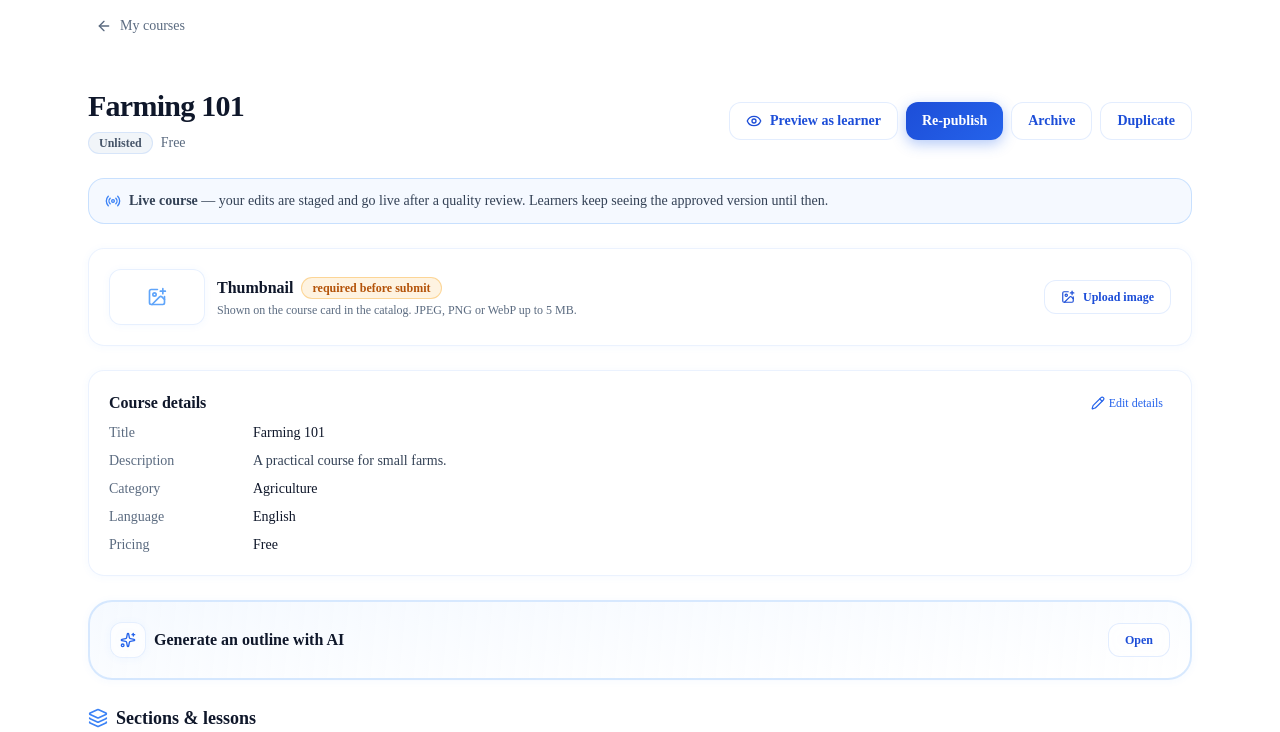
Test: course authoring page › shows a failed action as an alert
This screenshot has width=1280, height=732.
Click the button "Re-publish" at (955, 121), box x1=906 y1=102 x2=1003 y2=140
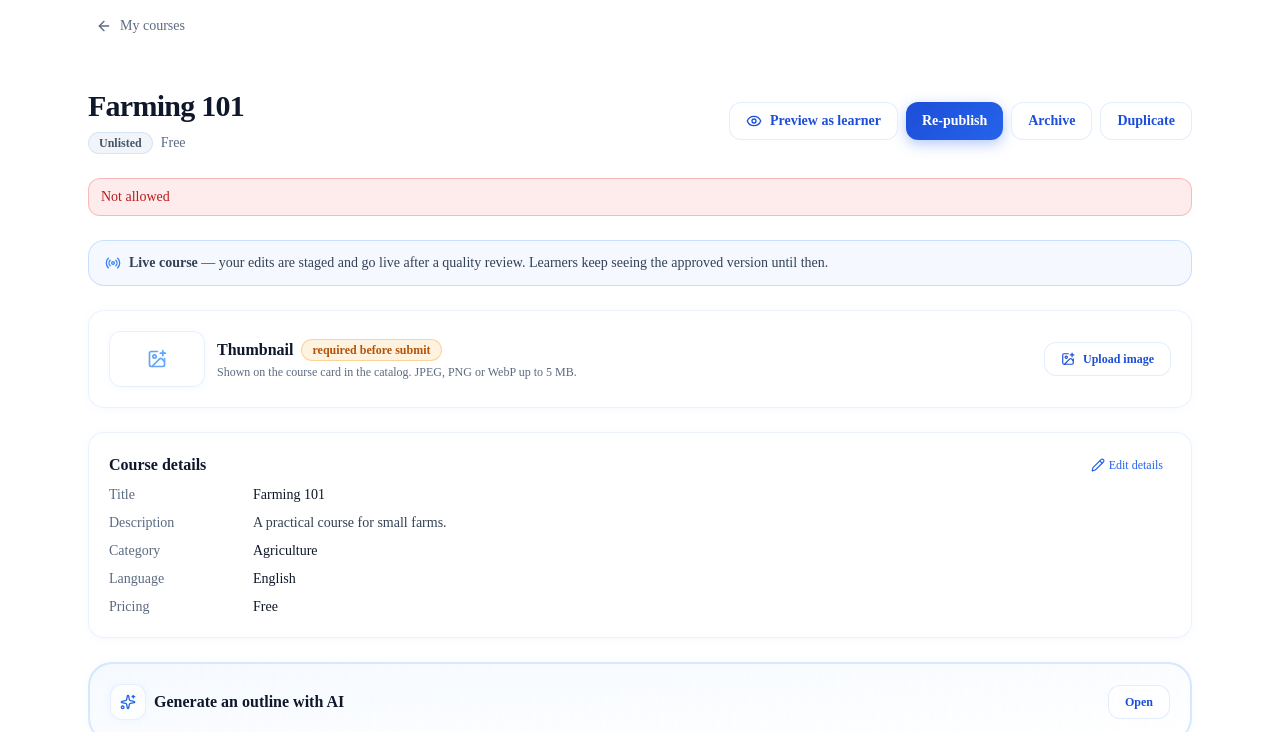
Check: the text "Not allowed" is shown, box x1=88 y1=178 x2=1192 y2=216
